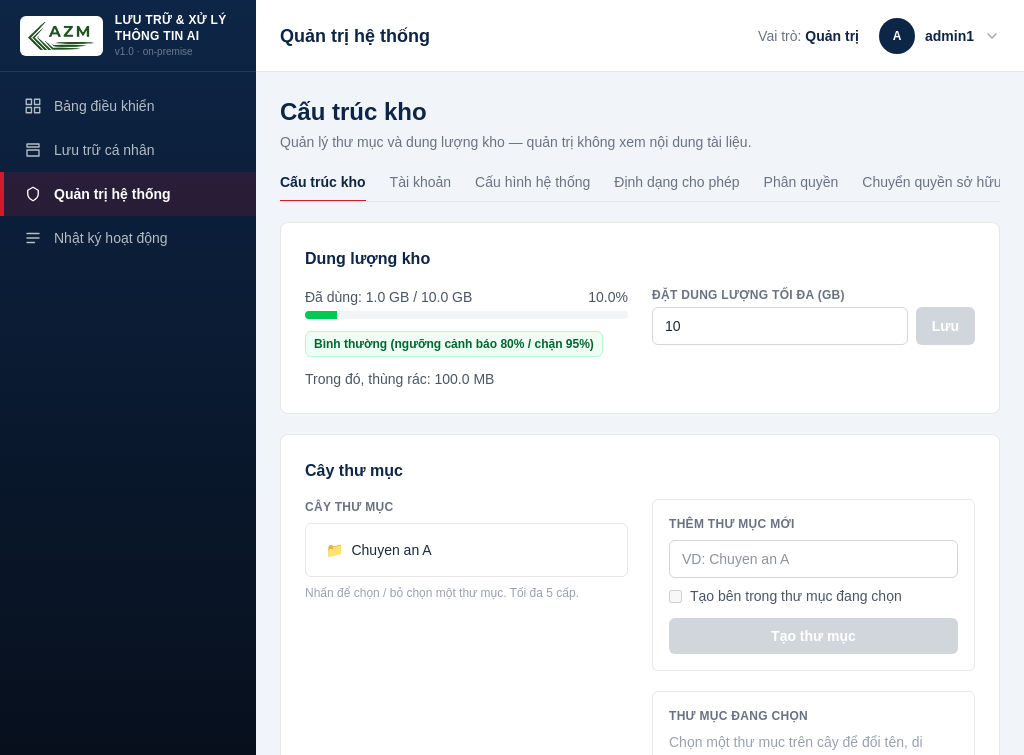
Test: FolderAdminPage › shows a friendly hint for a 409 MAX_DEPTH_EXCEEDED conflict on create
The image size is (1024, 755).
Check: the button "📁 Chuyen an A" is shown, box top-left (318, 536), bottom-right (615, 564)
Type "Sau qua" into the field with placeholder "VD: Chuyen an A" at (814, 559), box top-left (669, 540), bottom-right (958, 578)
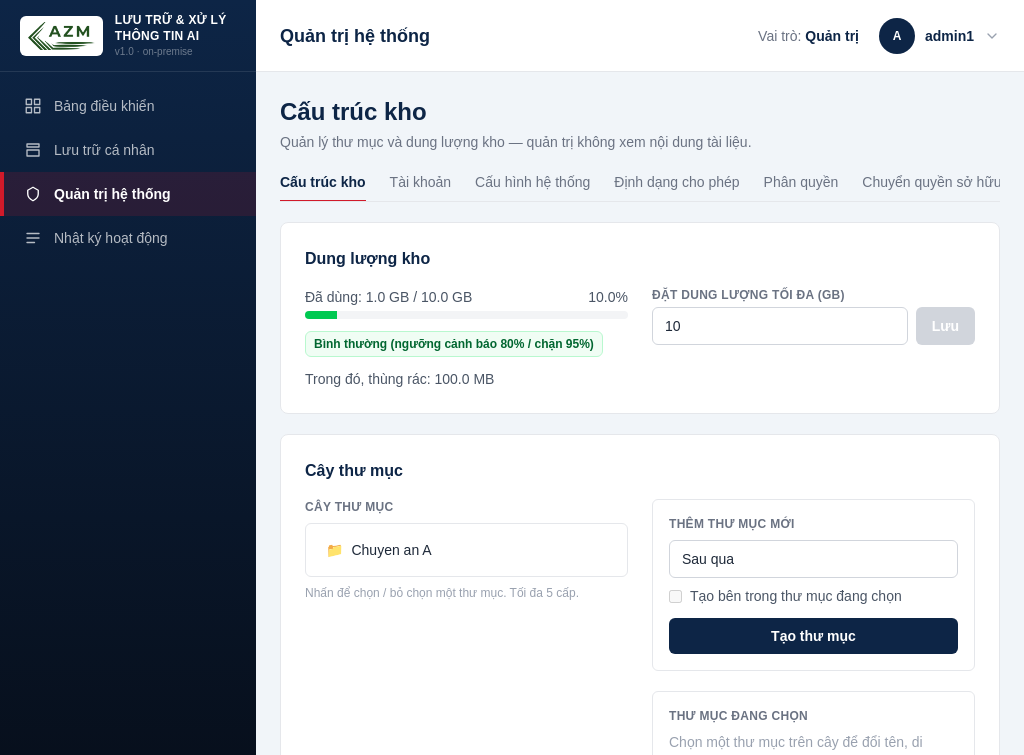
Click the button "Tạo thư mục" at (814, 636), box top-left (669, 618), bottom-right (958, 654)
(page scrolled)
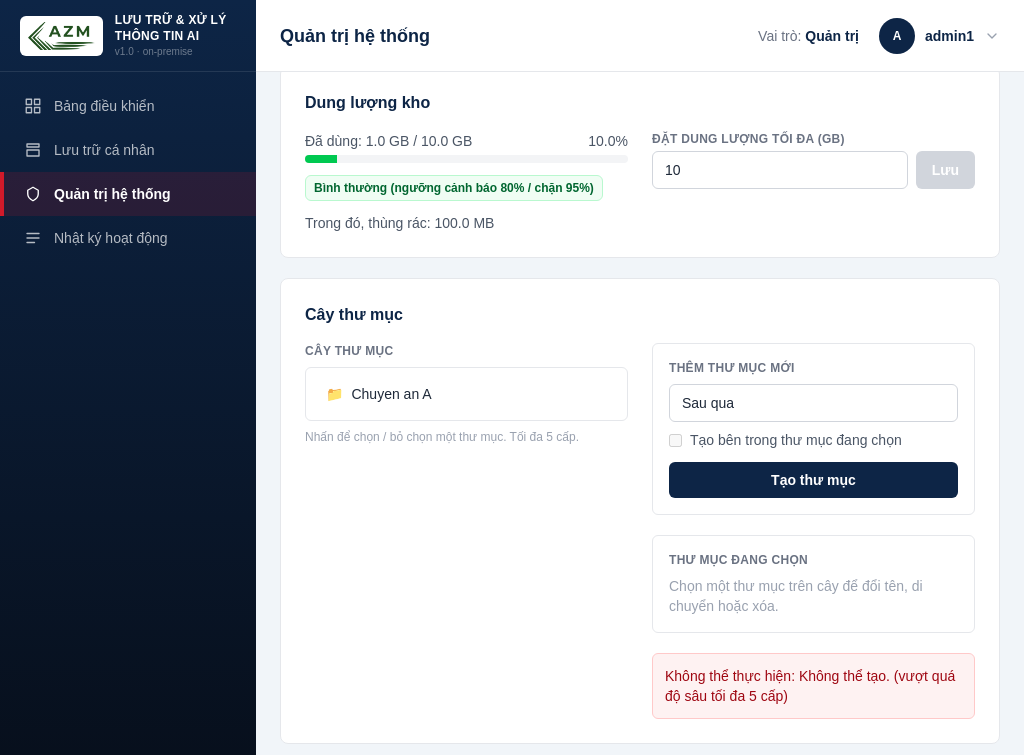
Check: the text "vượt quá độ sâu tối đa 5 cấp" is shown, box top-left (665, 668), bottom-right (955, 704)
